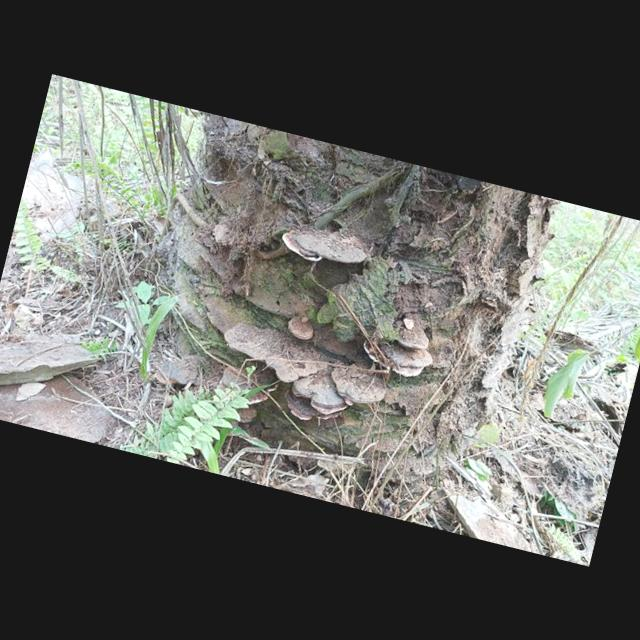ganoderma: (278, 364, 355, 430), (278, 221, 370, 274), (262, 337, 332, 392), (359, 336, 436, 383), (325, 360, 392, 414), (220, 318, 292, 368), (212, 363, 280, 411), (153, 354, 202, 393), (389, 317, 434, 354), (286, 313, 319, 342), (234, 403, 260, 427)
